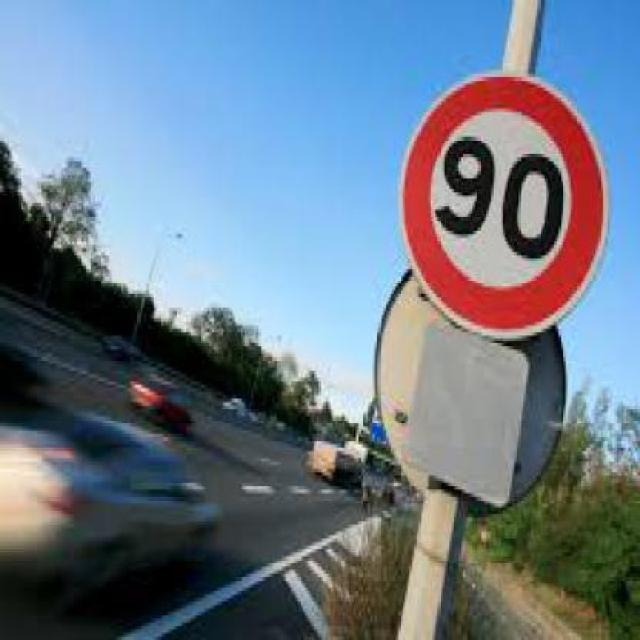speed limit 90: (399, 74, 607, 340)
